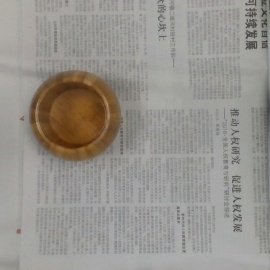chess: (31, 70, 121, 162)
